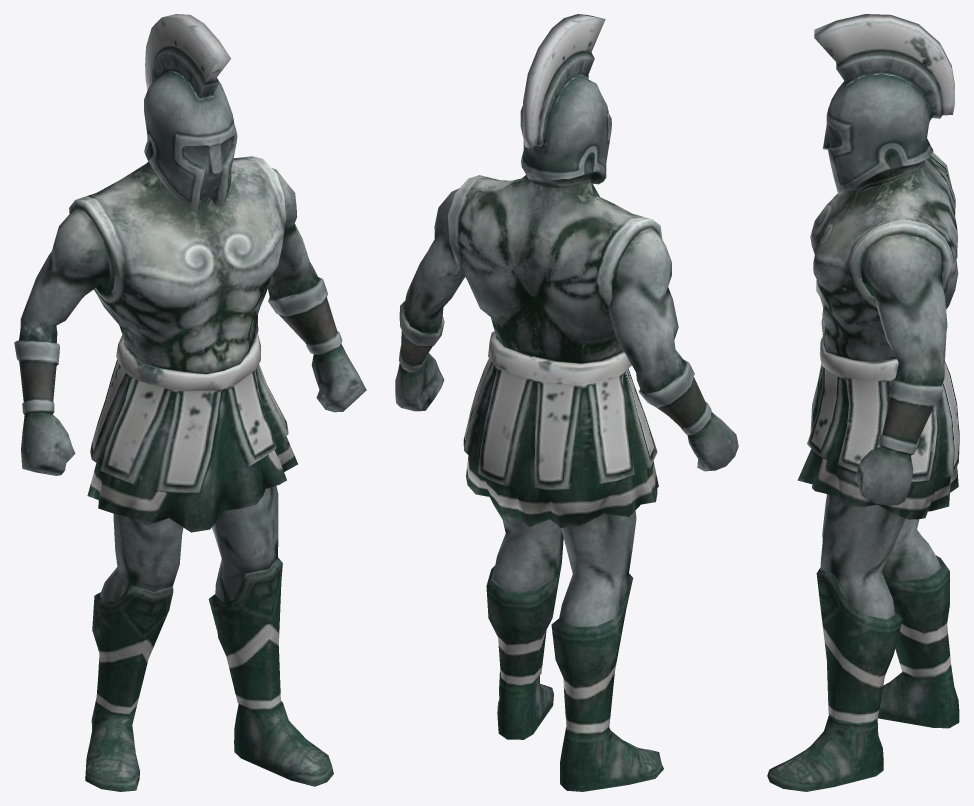
The model's file is body-handoftalos.glb.
3 renders of one model, left to right at view 1: azimuth 30°, elevation 25°; view 2: azimuth 150°, elevation 25°; view 3: azimuth 270°, elevation 25°, orthographic. The views are drawn at different scales.
Bounding box in the file's own units: 2.6 × 5.41 × 1.3.
Materials: 1 (1 with a texture image).
